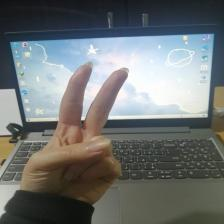two: (29, 60, 131, 201)
